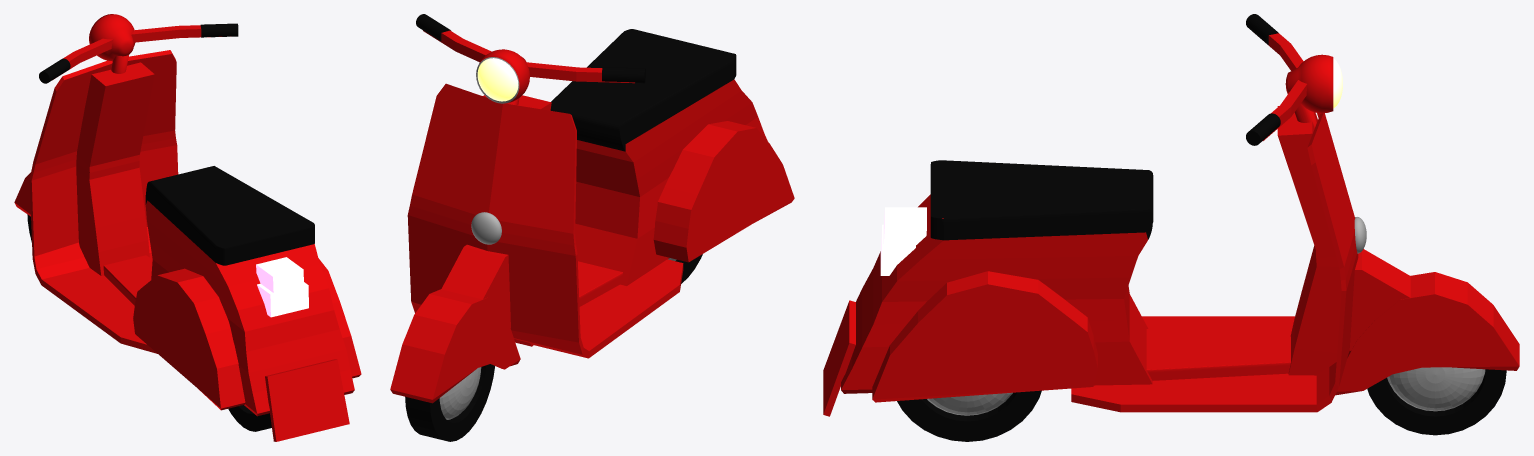
Rendered from vespa.gltf.
3 views of the same model, side by side, from view 1: azimuth 30°, elevation 25°; view 2: azimuth 150°, elevation 25°; view 3: azimuth 270°, elevation 25° (orthographic). The views are drawn at different scales.
Parts seen in each view (by area): view 1: Cylinder.001; view 2: Cylinder.001; view 3: Cylinder.001.
Part boxes in pixels (x1=…): Cylinder.001: x1=14, y1=14, x2=361, y2=441; Cylinder.001: x1=390, y1=14, x2=794, y2=441; Cylinder.001: x1=823, y1=14, x2=1519, y2=441.
Bounding box in the file's own units: 5.24 × 7.66 × 12.8.
